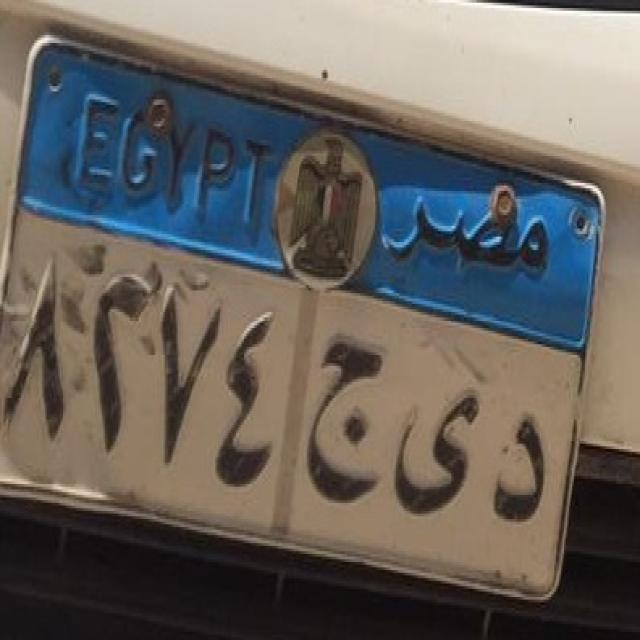2: (84, 252, 159, 461)
4: (206, 294, 280, 503)
7: (150, 279, 224, 474)
8: (2, 251, 78, 454)
Yeeh: (390, 364, 483, 527)
daal: (488, 392, 554, 540)
geem: (300, 329, 394, 508)
